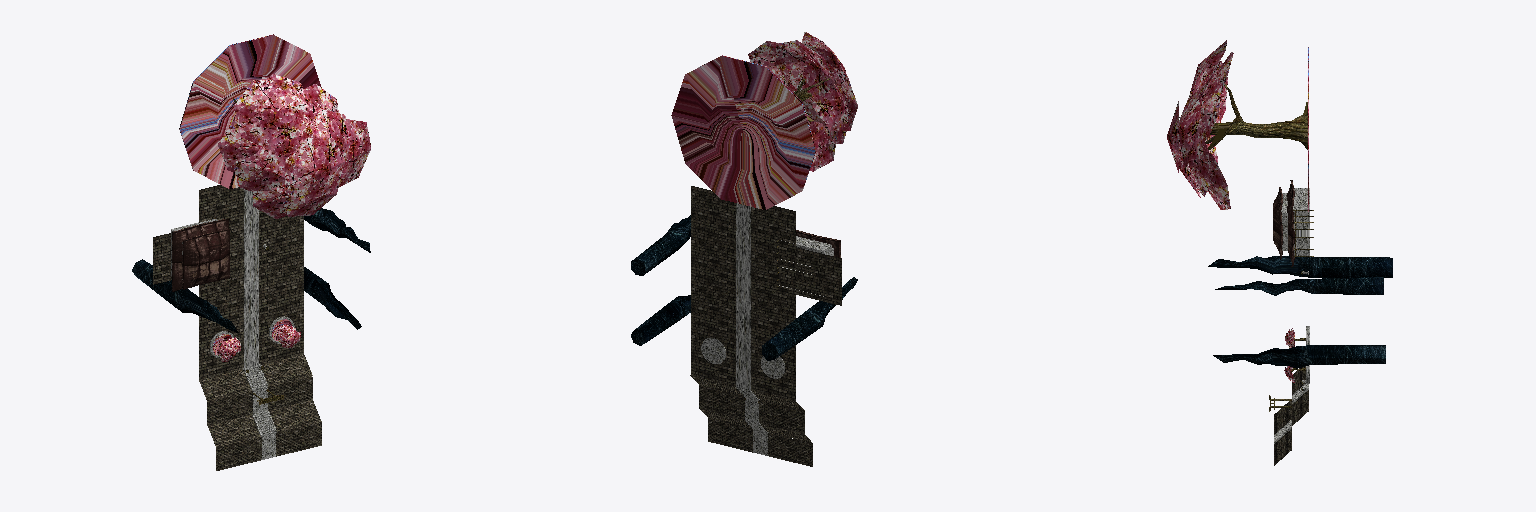
3 renders of one model, left to right at view 1: azimuth 30°, elevation 25°; view 2: azimuth 150°, elevation 25°; view 3: azimuth 270°, elevation 25°, orthographic.
Visible parts, largest first — view 1: Cylinder11, leaves25, leaves26, Plane09, Box42, ground01, ground02, Cylinder05, ground07, ground05, ground, ground08 (+21 smaller); view 2: Cylinder11, Plane09, ground04, ground01, ground02, ground06, leaves29, ground03, ground05, Cylinder05, leaves30, ground (+11 smaller); view 3: Cylinder05, Cylinder03, Cylinder04, treetrunk02, leaves28, leaves34, leaves31, Box12, leaves32, leaves25, Box42.
Part boxes in pixels (x1,y1,x2,y2): Cylinder11: (179,34,321,188); leaves25: (234,79,305,149); leaves26: (285,138,345,203); Plane09: (244,189,258,367); Box42: (182,229,230,289); ground01: (259,259,303,317); ground02: (259,216,303,269); Cylinder05: (132,259,237,332); ground07: (199,274,243,331); ground05: (199,185,243,229); ground: (259,307,303,364); ground08: (199,322,243,379); Cylinder11: (671,55,815,209); Plane09: (736,203,750,389); ground04: (796,247,841,305); ground01: (691,281,735,338); ground02: (691,233,735,290); ground06: (751,248,795,305); leaves29: (775,40,834,96); ground03: (691,186,735,243); ground05: (751,206,795,258); Cylinder05: (762,277,857,360); leaves30: (812,63,857,130); ground: (691,328,735,385); Cylinder05: (1208,255,1392,277); Cylinder03: (1213,345,1385,368); Cylinder04: (1215,277,1383,295); treetrunk02: (1179,84,1307,149); leaves28: (1188,127,1210,196); leaves34: (1179,98,1201,166); leaves31: (1199,74,1221,140); Box12: (1293,188,1309,255); leaves32: (1208,153,1230,209); leaves25: (1189,40,1226,97); Box42: (1273,187,1282,259).
Size of the model in its own units: 77.86 by 171 by 86.53.
Materials: 10 (8 with a texture image).